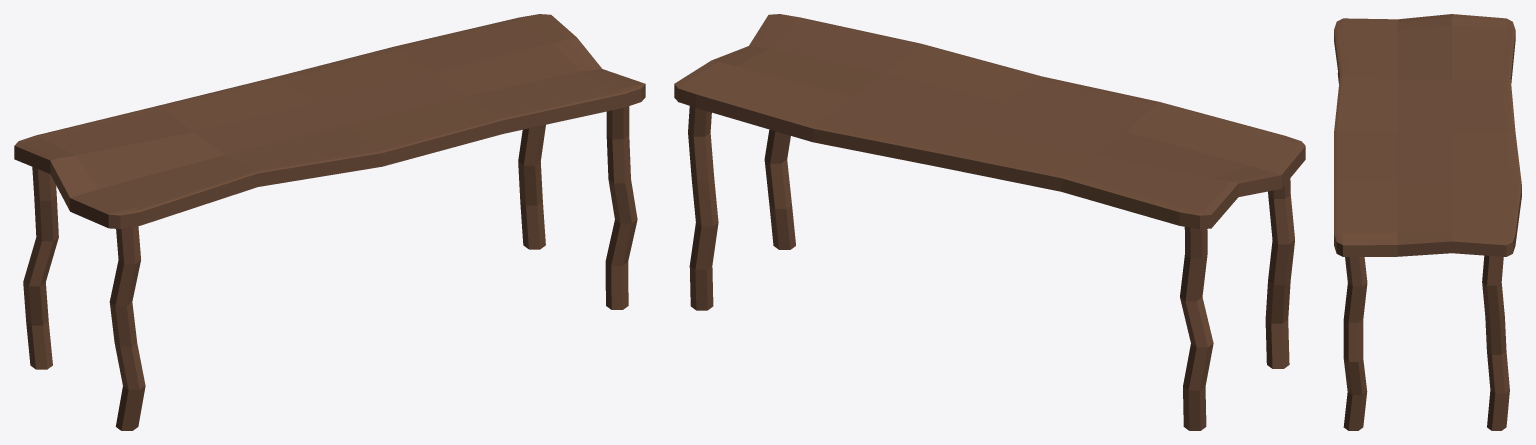
Rendered from table_big.fbx.
3 renders of one model, left to right at view 1: azimuth 30°, elevation 25°; view 2: azimuth 150°, elevation 25°; view 3: azimuth 270°, elevation 25°, orthographic. The views are drawn at different scales.
Parts seen in each view (by area): view 1: Table, Leg, Leg.007, Leg.006, Leg.004; view 2: Table, Leg.006, Leg.004, Leg, Leg.007; view 3: Table, Leg.007, Leg.004.
Part boxes in pixels (box(x1,y1,x2,y2)): Table: box(14, 14, 645, 228); Leg: box(109, 226, 145, 430); Leg.007: box(605, 106, 637, 309); Leg.006: box(23, 167, 58, 369); Leg.004: box(518, 124, 545, 249); Table: box(674, 14, 1305, 229); Leg.006: box(1180, 227, 1213, 430); Leg.004: box(688, 106, 718, 310); Leg: box(1265, 178, 1294, 368); Leg.007: box(764, 129, 795, 249); Table: box(1334, 14, 1521, 256); Leg.007: box(1343, 257, 1367, 430); Leg.004: box(1482, 255, 1509, 430).
Bounding box in the file's own units: 444 × 178 × 153.
